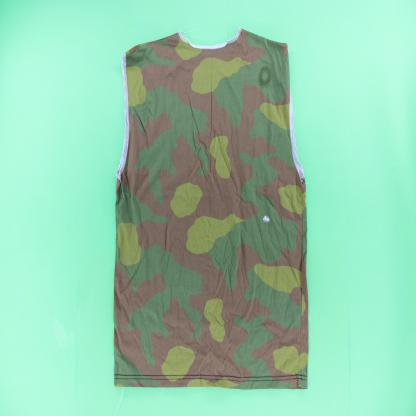stain: (258, 64, 273, 90), (261, 213, 271, 225)
